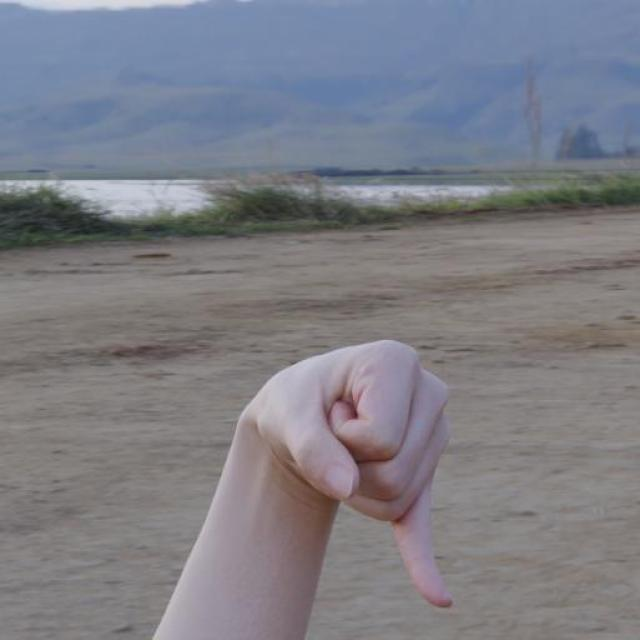J: (244, 339, 453, 611)
